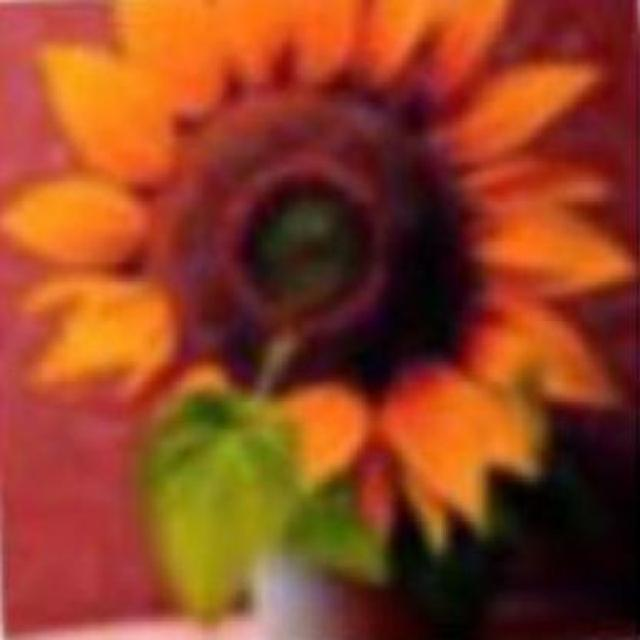sunflower: (13, 0, 624, 563)
